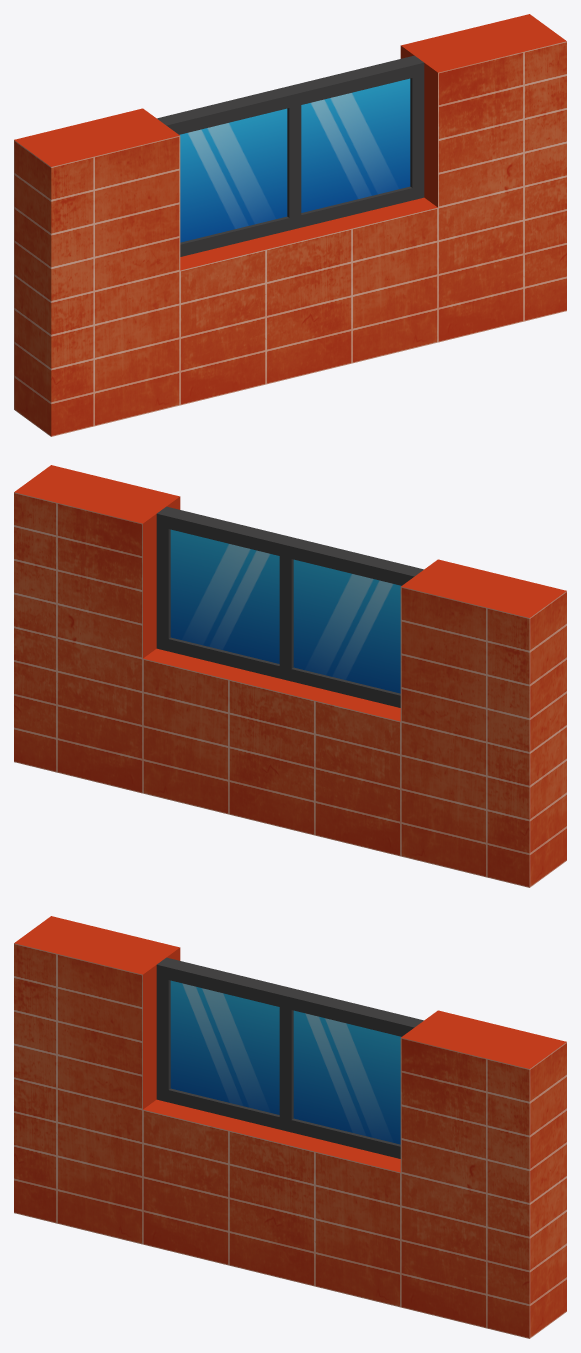
Rendered from Wall_Window_01_v02.fbx.
The picture shows the model from 3 angles, top to bottom: view 1: azimuth 30°, elevation 25°; view 2: azimuth 150°, elevation 25°; view 3: azimuth 330°, elevation 25°; orthographic projection.
Parts seen in each view (by area): view 1: Wall_Window_01_v02; view 2: Wall_Window_01_v02; view 3: Wall_Window_01_v02.
Boxes of the visible parts, x1,y1,x2,y2 form: Wall_Window_01_v02: (14, 14, 566, 436); Wall_Window_01_v02: (14, 465, 566, 887); Wall_Window_01_v02: (14, 916, 566, 1338).
Bounding box in the file's own units: 400 × 200 × 50.
